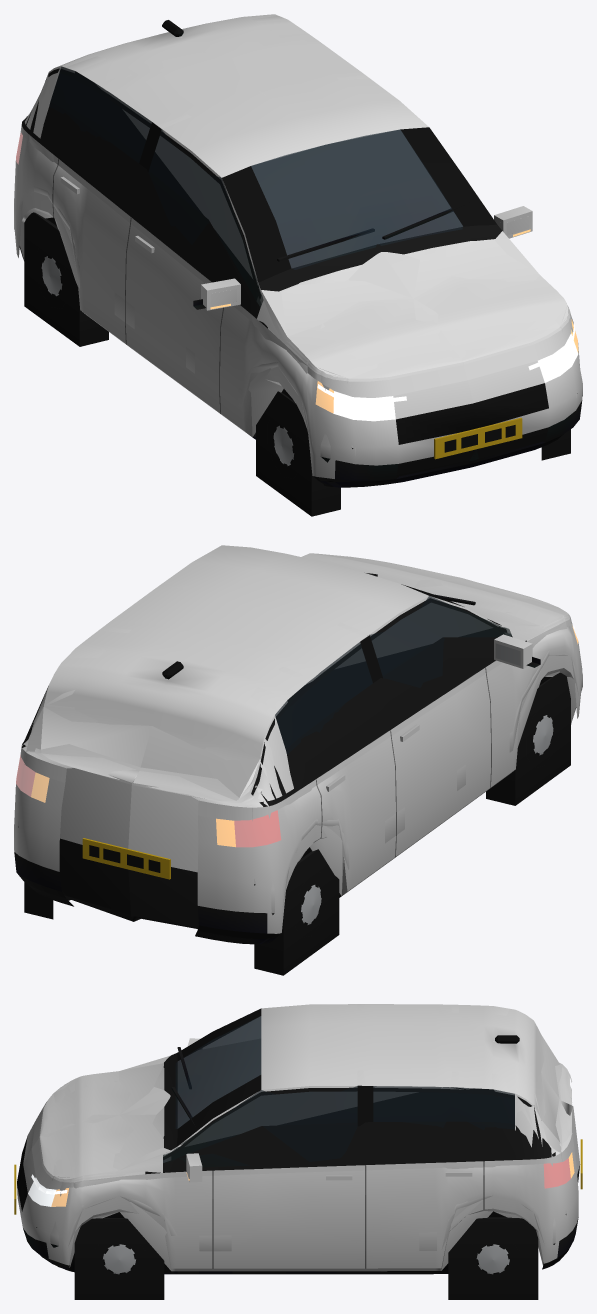
File: mini.glb
3 renders of one model, top to bottom at view 1: azimuth 30°, elevation 25°; view 2: azimuth 150°, elevation 25°; view 3: azimuth 270°, elevation 25°, orthographic. The views are drawn at different scales.
Visible parts, largest first — view 1: body (×3); view 2: body (×3), wheel_RR, wheel_FR; view 3: body (×3), wheel_FL, wheel_RL.
Boxes of the visible parts, x1,y1,x2,y2 form: body (×3): (14,14,582,516); body (×3): (14,545,582,975); wheel_RR: (301,884,321,924); wheel_FR: (533,715,553,755); body (×3): (14,1004,582,1299); wheel_FL: (102,1244,136,1274); wheel_RL: (476,1244,509,1274).
Size of the model in its own units: 2 by 1.51 by 3.65.
